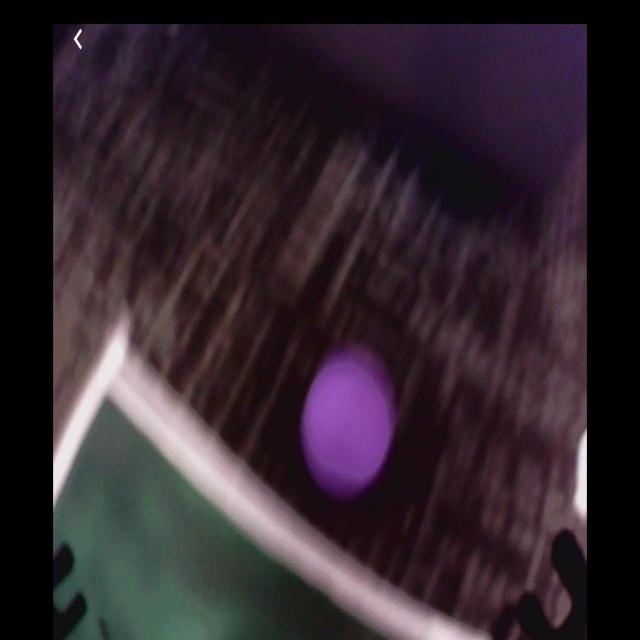ball: (305, 365, 390, 490)
